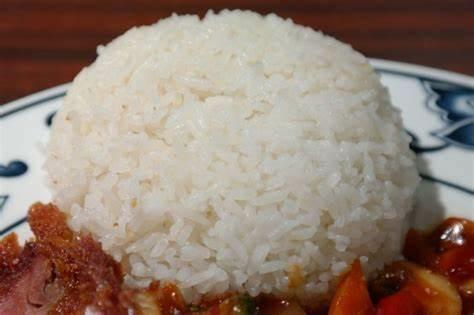WhiteRice: (37, 8, 422, 291)
